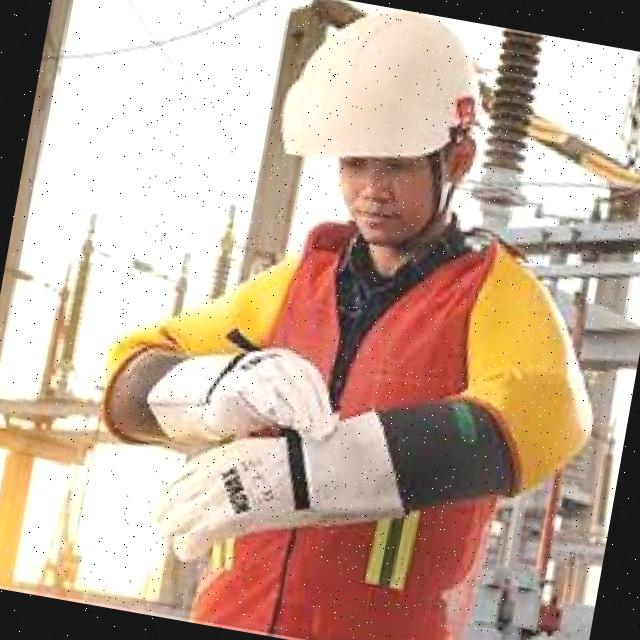helmet: (262, 0, 506, 202)
vest: (171, 204, 538, 640)
